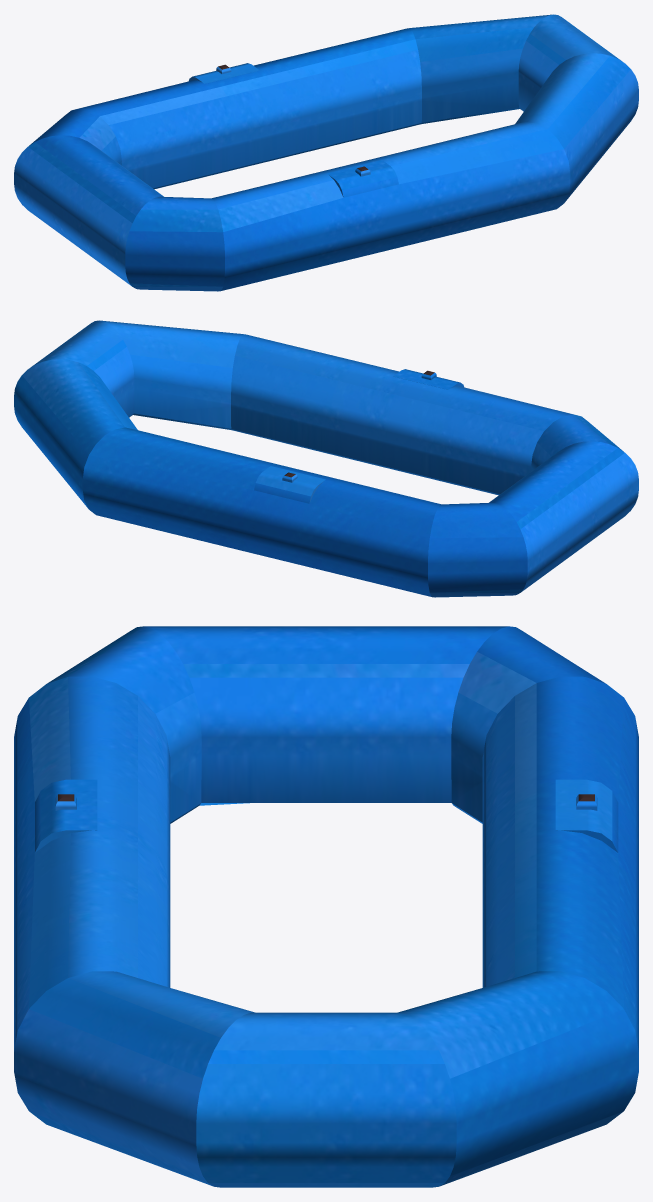
Rendered from XUONG-sua ko day.fbx.
The picture shows the model from 3 angles, top to bottom: view 1: azimuth 30°, elevation 25°; view 2: azimuth 150°, elevation 25°; view 3: azimuth 270°, elevation 25°; orthographic projection. The views are drawn at different scales.
Visible parts, largest first — view 1: Fillet2; view 2: Fillet2; view 3: Fillet2.
Boxes of the visible parts, bbox=[...] form: Fillet2: bbox=[14, 14, 638, 291]; Fillet2: bbox=[14, 320, 638, 597]; Fillet2: bbox=[14, 626, 638, 1187].
Size of the model in its own units: 22.2 by 4.17 by 12.
